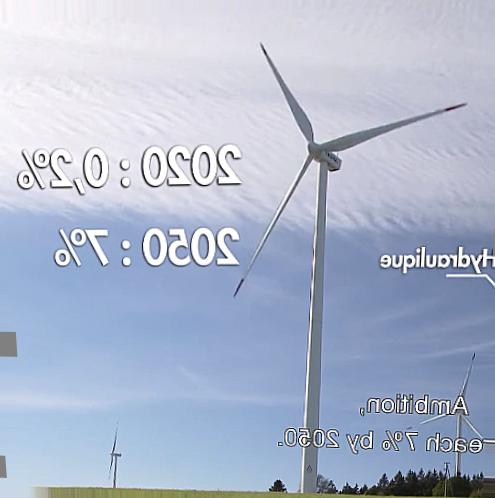wind turbine: (233, 42, 463, 494)
